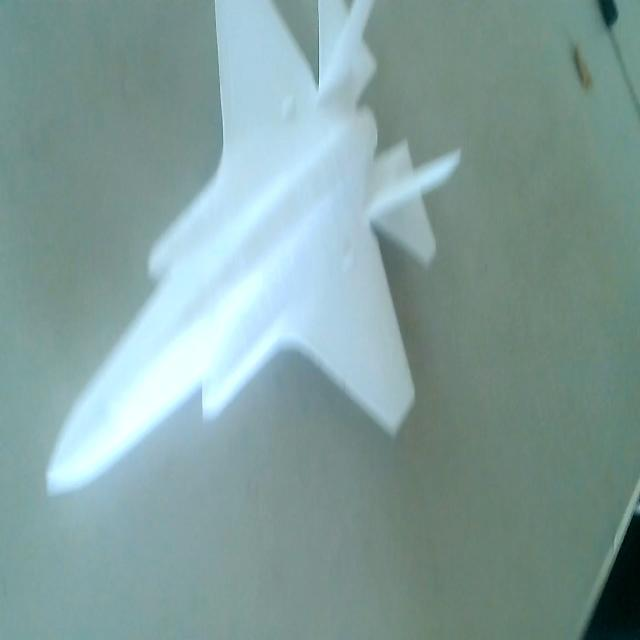Jet: (40, 0, 461, 501)
